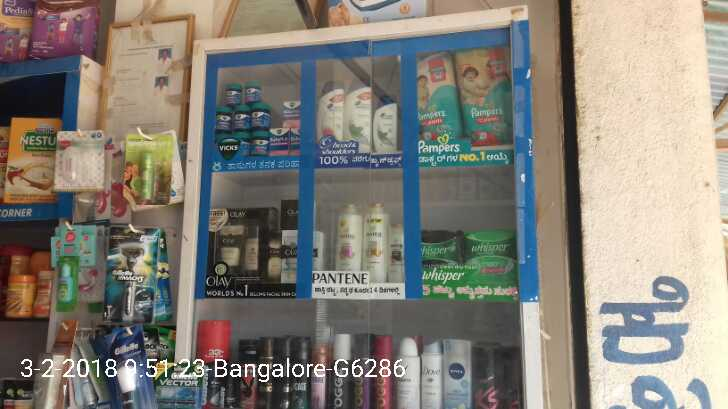beauty: (342, 73, 374, 152), (333, 202, 364, 282), (319, 82, 344, 158), (364, 202, 384, 282), (213, 220, 242, 274), (374, 91, 399, 152), (242, 217, 262, 279), (280, 230, 299, 287)
pharmacy: (455, 46, 514, 149), (460, 222, 516, 276), (403, 225, 460, 276), (249, 102, 269, 131), (250, 133, 270, 161), (268, 123, 285, 155), (281, 101, 297, 124), (232, 109, 247, 131), (244, 82, 259, 103), (224, 82, 237, 106)
